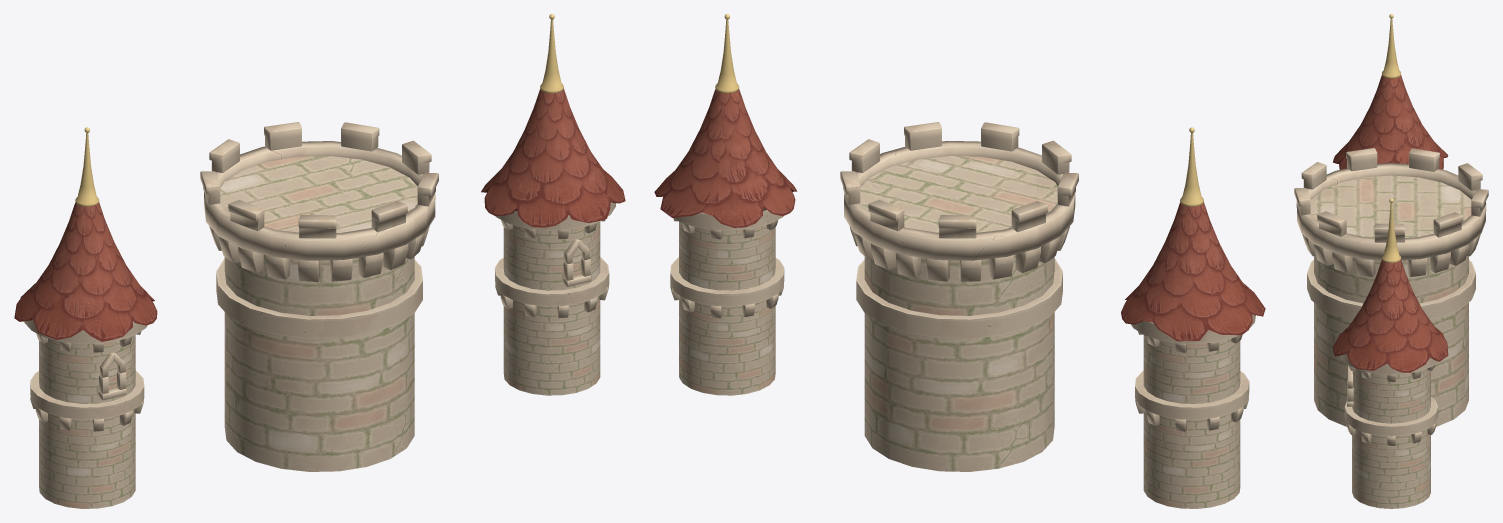
File: Gamejam.fbx
3 renders of one model, left to right at view 1: azimuth 30°, elevation 25°; view 2: azimuth 150°, elevation 25°; view 3: azimuth 270°, elevation 25°, orthographic. The views are drawn at different scales.
Parts seen in each view (by area): view 1: Cylinder001, Cylinder002, Cone001, Plane001, Shape001, Brick_01_low, Shape002, Shape004, Brick_02_low, Frame_01_low, Top_02_low, Shape005 (+2 smaller); view 2: Cylinder001, Cylinder002, Cone001, Plane001, Shape001, Brick_01_low, Shape002, Shape004, Brick_02_low, Shape005, Top_02_low, Brick_02_low001 (+1 smaller); view 3: Cone001, Cylinder001, Cylinder002, Plane001, Shape001, Brick_01_low, Shape002, Brick_02_low, Shape004, Top_02_low, Shape005, Brick_02_low001 (+2 smaller).
Part boxes in pixels (x1,y1,x2,y2): Cylinder001: (224,254,414,471); Cylinder002: (39,222,600,508); Cone001: (14,88,625,341); Plane001: (220,156,417,232); Shape001: (204,141,435,260); Brick_01_low: (200,122,438,238); Shape002: (216,258,422,338); Shape004: (30,257,609,419); Brick_02_low: (209,226,429,281); Frame_01_low: (98,238,590,400); Top_02_low: (75,14,563,206); Shape005: (24,202,615,343); Cylinder001: (864,254,1054,471); Cylinder002: (679,208,1240,508); Cone001: (654,89,1265,341); Plane001: (860,156,1057,232); Shape001: (844,141,1075,260); Brick_01_low: (840,122,1078,238); Shape002: (856,258,1062,338); Shape004: (670,257,1249,419); Brick_02_low: (849,226,1069,281); Shape005: (674,210,1255,343); Top_02_low: (715,14,1203,206); Brick_02_low001: (670,285,1248,431); Cone001: (1333,75,1448,372); Cylinder001: (1314,256,1468,426); Cylinder002: (1352,369,1430,508); Plane001: (1310,175,1471,237); Shape001: (1296,163,1486,260); Brick_01_low: (1294,148,1488,242); Shape002: (1307,260,1475,320); Brick_02_low: (1302,234,1480,277); Shape004: (1344,397,1438,436); Top_02_low: (1381,14,1401,262); Shape005: (1339,159,1443,374); Brick_02_low001: (1346,422,1436,446).
Bounding box in the file's own units: 23411 × 13704 × 8210.
Materials: 3 (3 with a texture image).
